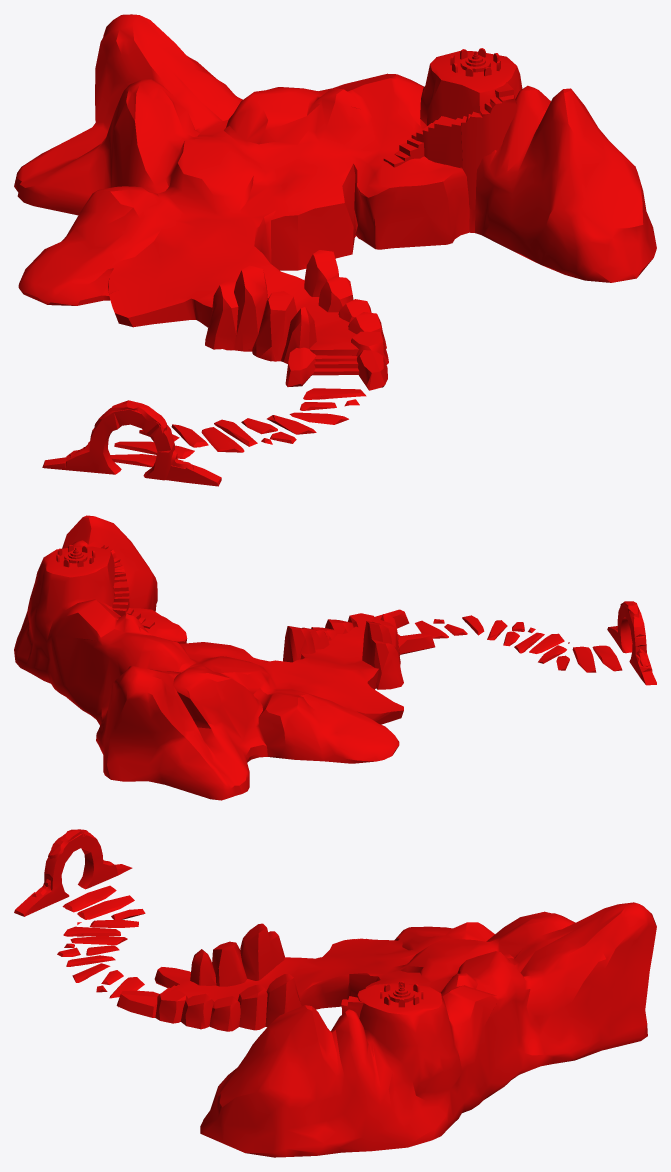
The model's file is Neighborhood_PudgyStone_02.glb.
3 views of the same model, one above another, from view 1: azimuth 30°, elevation 25°; view 2: azimuth 150°, elevation 25°; view 3: azimuth 270°, elevation 25° (orthographic). The views are drawn at different scales.
Visible parts, largest first — view 1: Environment_PudgyStone, Object_Snow, Building_Stones; view 2: Environment_PudgyStone, Building_Stones; view 3: Environment_PudgyStone, Building_Stones, Object_Snow.
Boxes of the visible parts, x1=… form: Environment_PudgyStone: x1=14, y1=14, x2=656, y2=486; Object_Snow: x1=69, y1=400, x2=193, y2=470; Building_Stones: x1=450, y1=48, x2=500, y2=76; Environment_PudgyStone: x1=14, y1=515, x2=656, y2=800; Building_Stones: x1=56, y1=545, x2=95, y2=567; Environment_PudgyStone: x1=14, y1=832, x2=656, y2=1157; Building_Stones: x1=380, y1=981, x2=423, y2=1007; Object_Snow: x1=32, y1=829, x2=112, y2=897.
Bounding box in the file's own units: 37.55 × 7.87 × 34.79.
